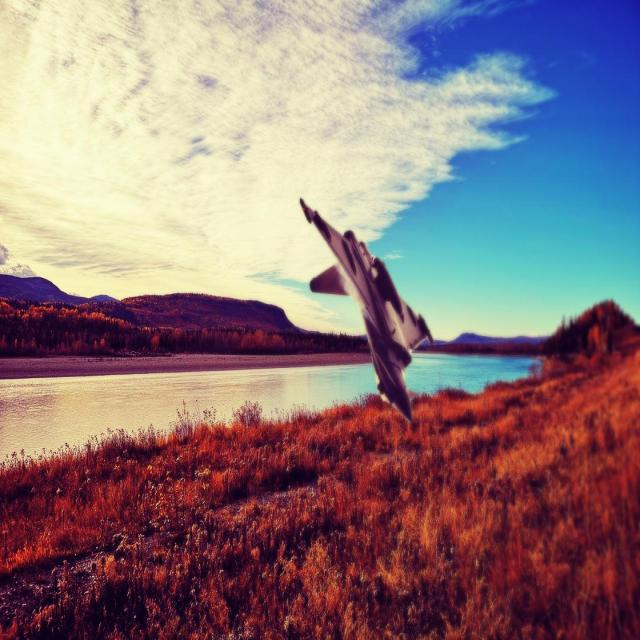airplane: (298, 197, 434, 424)
